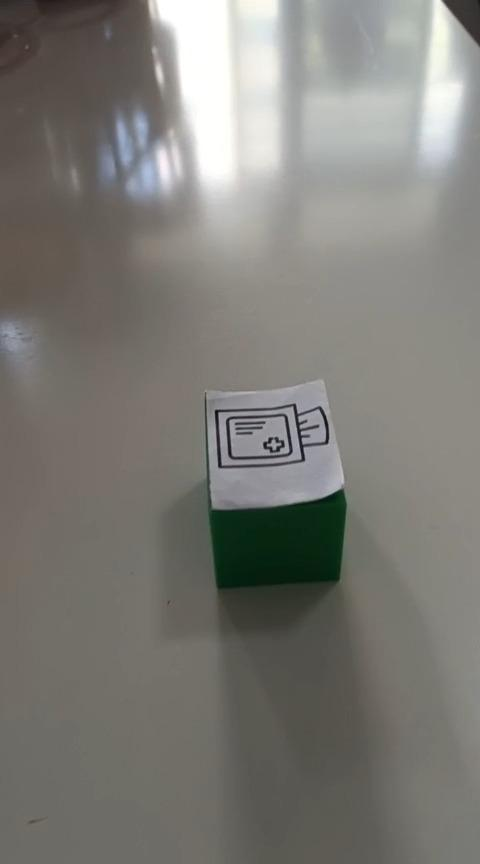Gauze: (202, 377, 347, 589)
